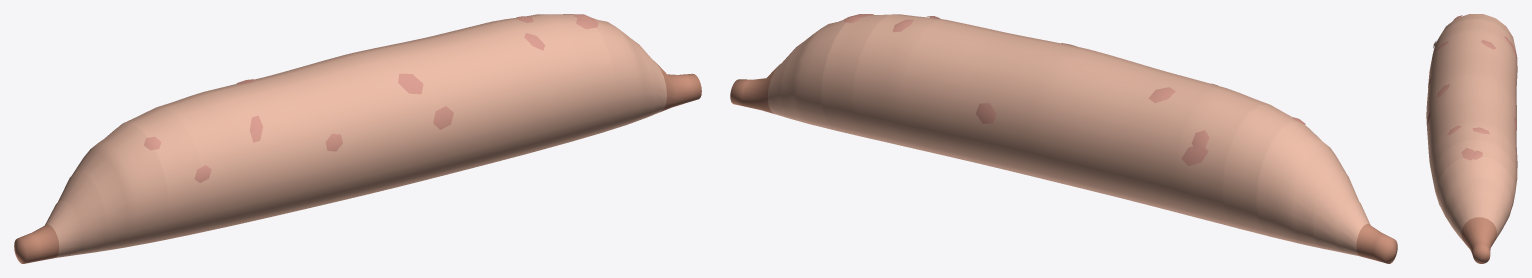
File: sausage_raw.glb
3 views of the same model, side by side, from view 1: azimuth 30°, elevation 25°; view 2: azimuth 150°, elevation 25°; view 3: azimuth 270°, elevation 25° (orthographic). The views are drawn at different scales.
Parts seen in each view (by area): view 1: SausageRaw; view 2: SausageRaw; view 3: SausageRaw.
Boxes of the visible parts, x1,y1,x2,y2 form: SausageRaw: (14, 14, 701, 263); SausageRaw: (730, 14, 1397, 263); SausageRaw: (1426, 14, 1517, 263).
Bounding box in the file's own units: 4.5 × 0.8 × 0.8.
